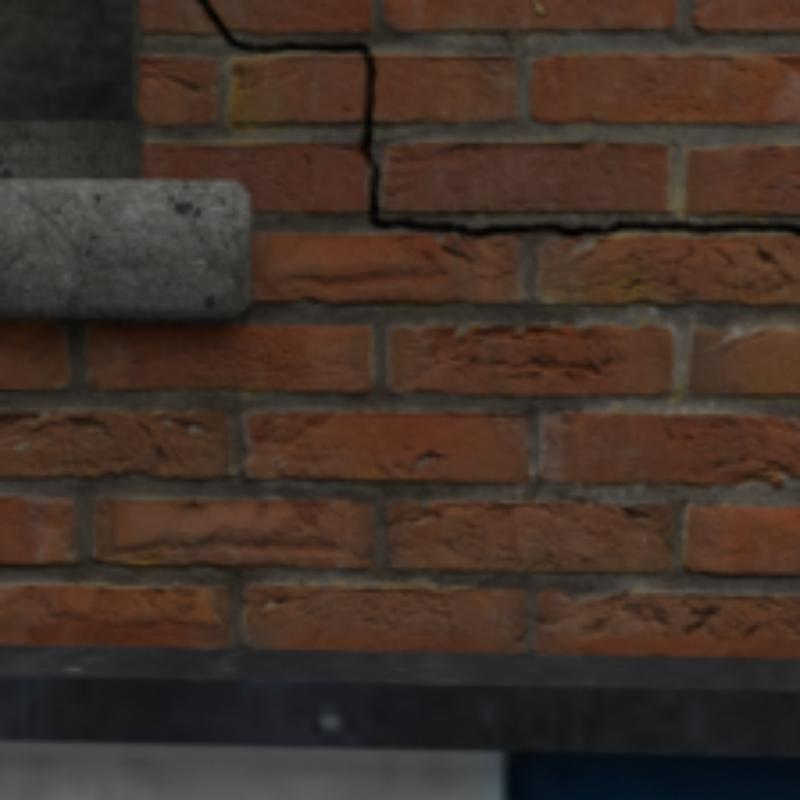pothole: (196, 0, 796, 238)
